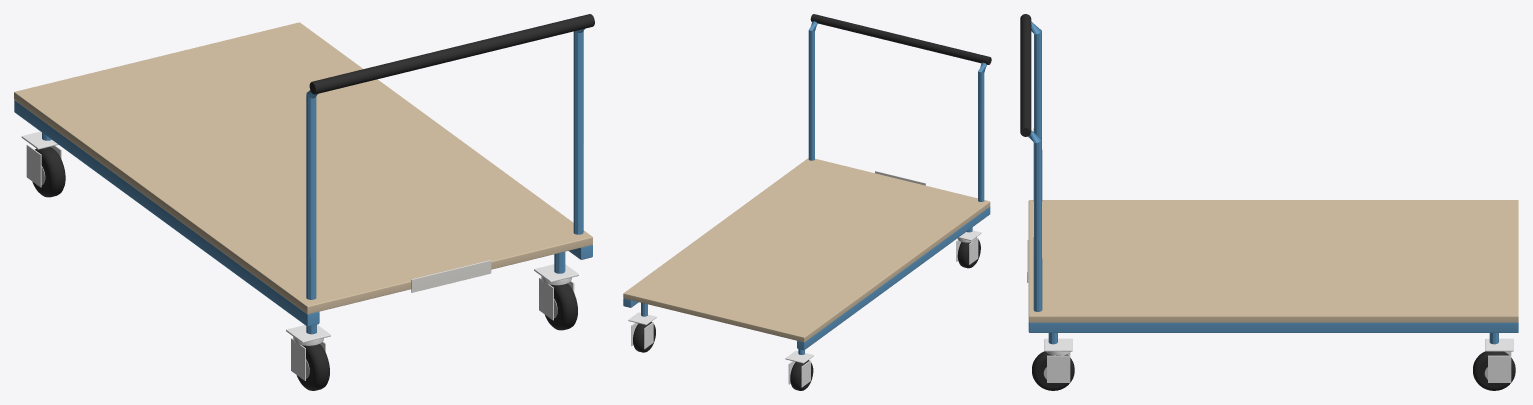
File: trolley_flatbed.glb
3 renders of one model, left to right at view 1: azimuth 30°, elevation 25°; view 2: azimuth 150°, elevation 25°; view 3: azimuth 270°, elevation 25°, orthographic. The views are drawn at different scales.
Visible parts, largest first — view 1: SM_trolley_flatbed; view 2: SM_trolley_flatbed; view 3: SM_trolley_flatbed.
Part boxes in pixels (left/top/right/bottom): SM_trolley_flatbed: left=14, top=14, right=594, bottom=390; SM_trolley_flatbed: left=623, top=14, right=991, bottom=390; SM_trolley_flatbed: left=1020, top=14, right=1518, bottom=390.
Bounding box in the file's own units: 0.9 × 0.968 × 1.63.
